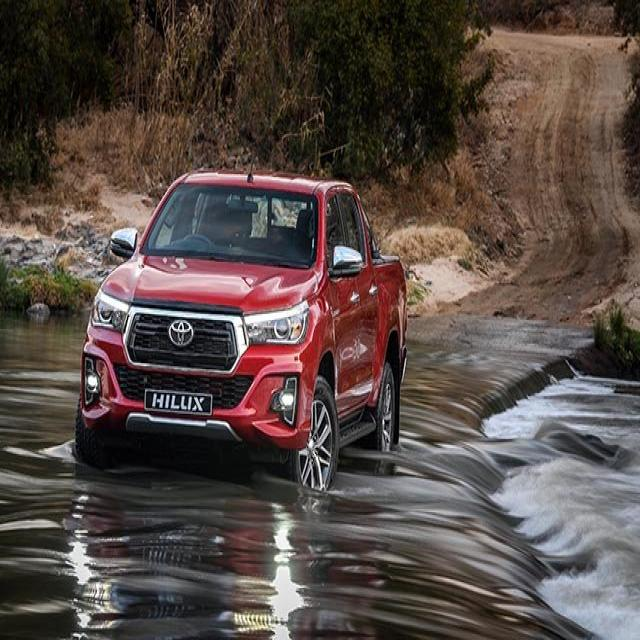Pickup Trucks: (74, 176, 410, 503)
